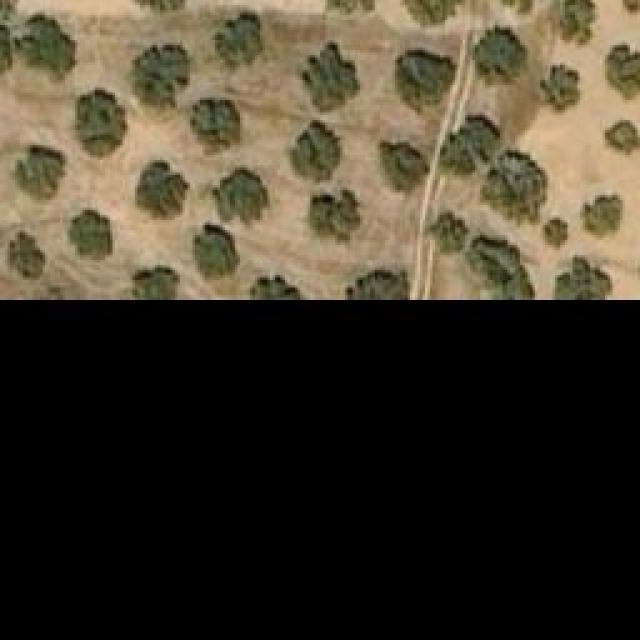Tree: (480, 150, 548, 225), (465, 228, 535, 298), (128, 45, 198, 110), (298, 43, 363, 113), (393, 50, 456, 115), (438, 115, 501, 178), (285, 120, 345, 185), (135, 158, 190, 221), (13, 15, 76, 70), (78, 90, 128, 158), (213, 13, 268, 73), (473, 25, 528, 85), (15, 145, 68, 203), (190, 220, 238, 280), (190, 98, 240, 153), (310, 188, 360, 243), (218, 168, 268, 221), (380, 142, 430, 190), (555, 258, 610, 298), (605, 42, 640, 100), (70, 210, 113, 255), (7, 230, 45, 280), (425, 210, 468, 253), (395, 0, 468, 25), (560, 0, 598, 48), (345, 270, 410, 298), (540, 65, 578, 110), (580, 195, 623, 233), (600, 118, 640, 158), (130, 268, 180, 298), (250, 275, 305, 298), (545, 220, 568, 248)
